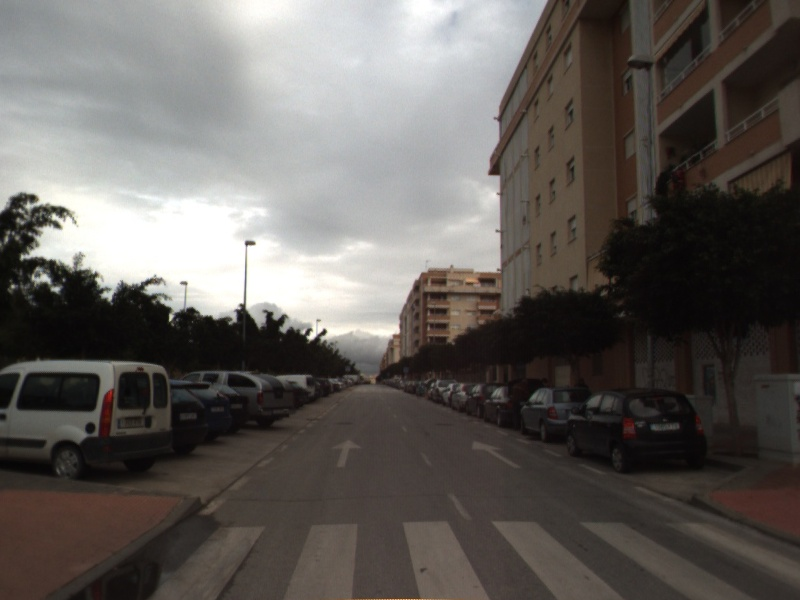STRAIGHT: (470, 439, 523, 470), (329, 437, 364, 469)
